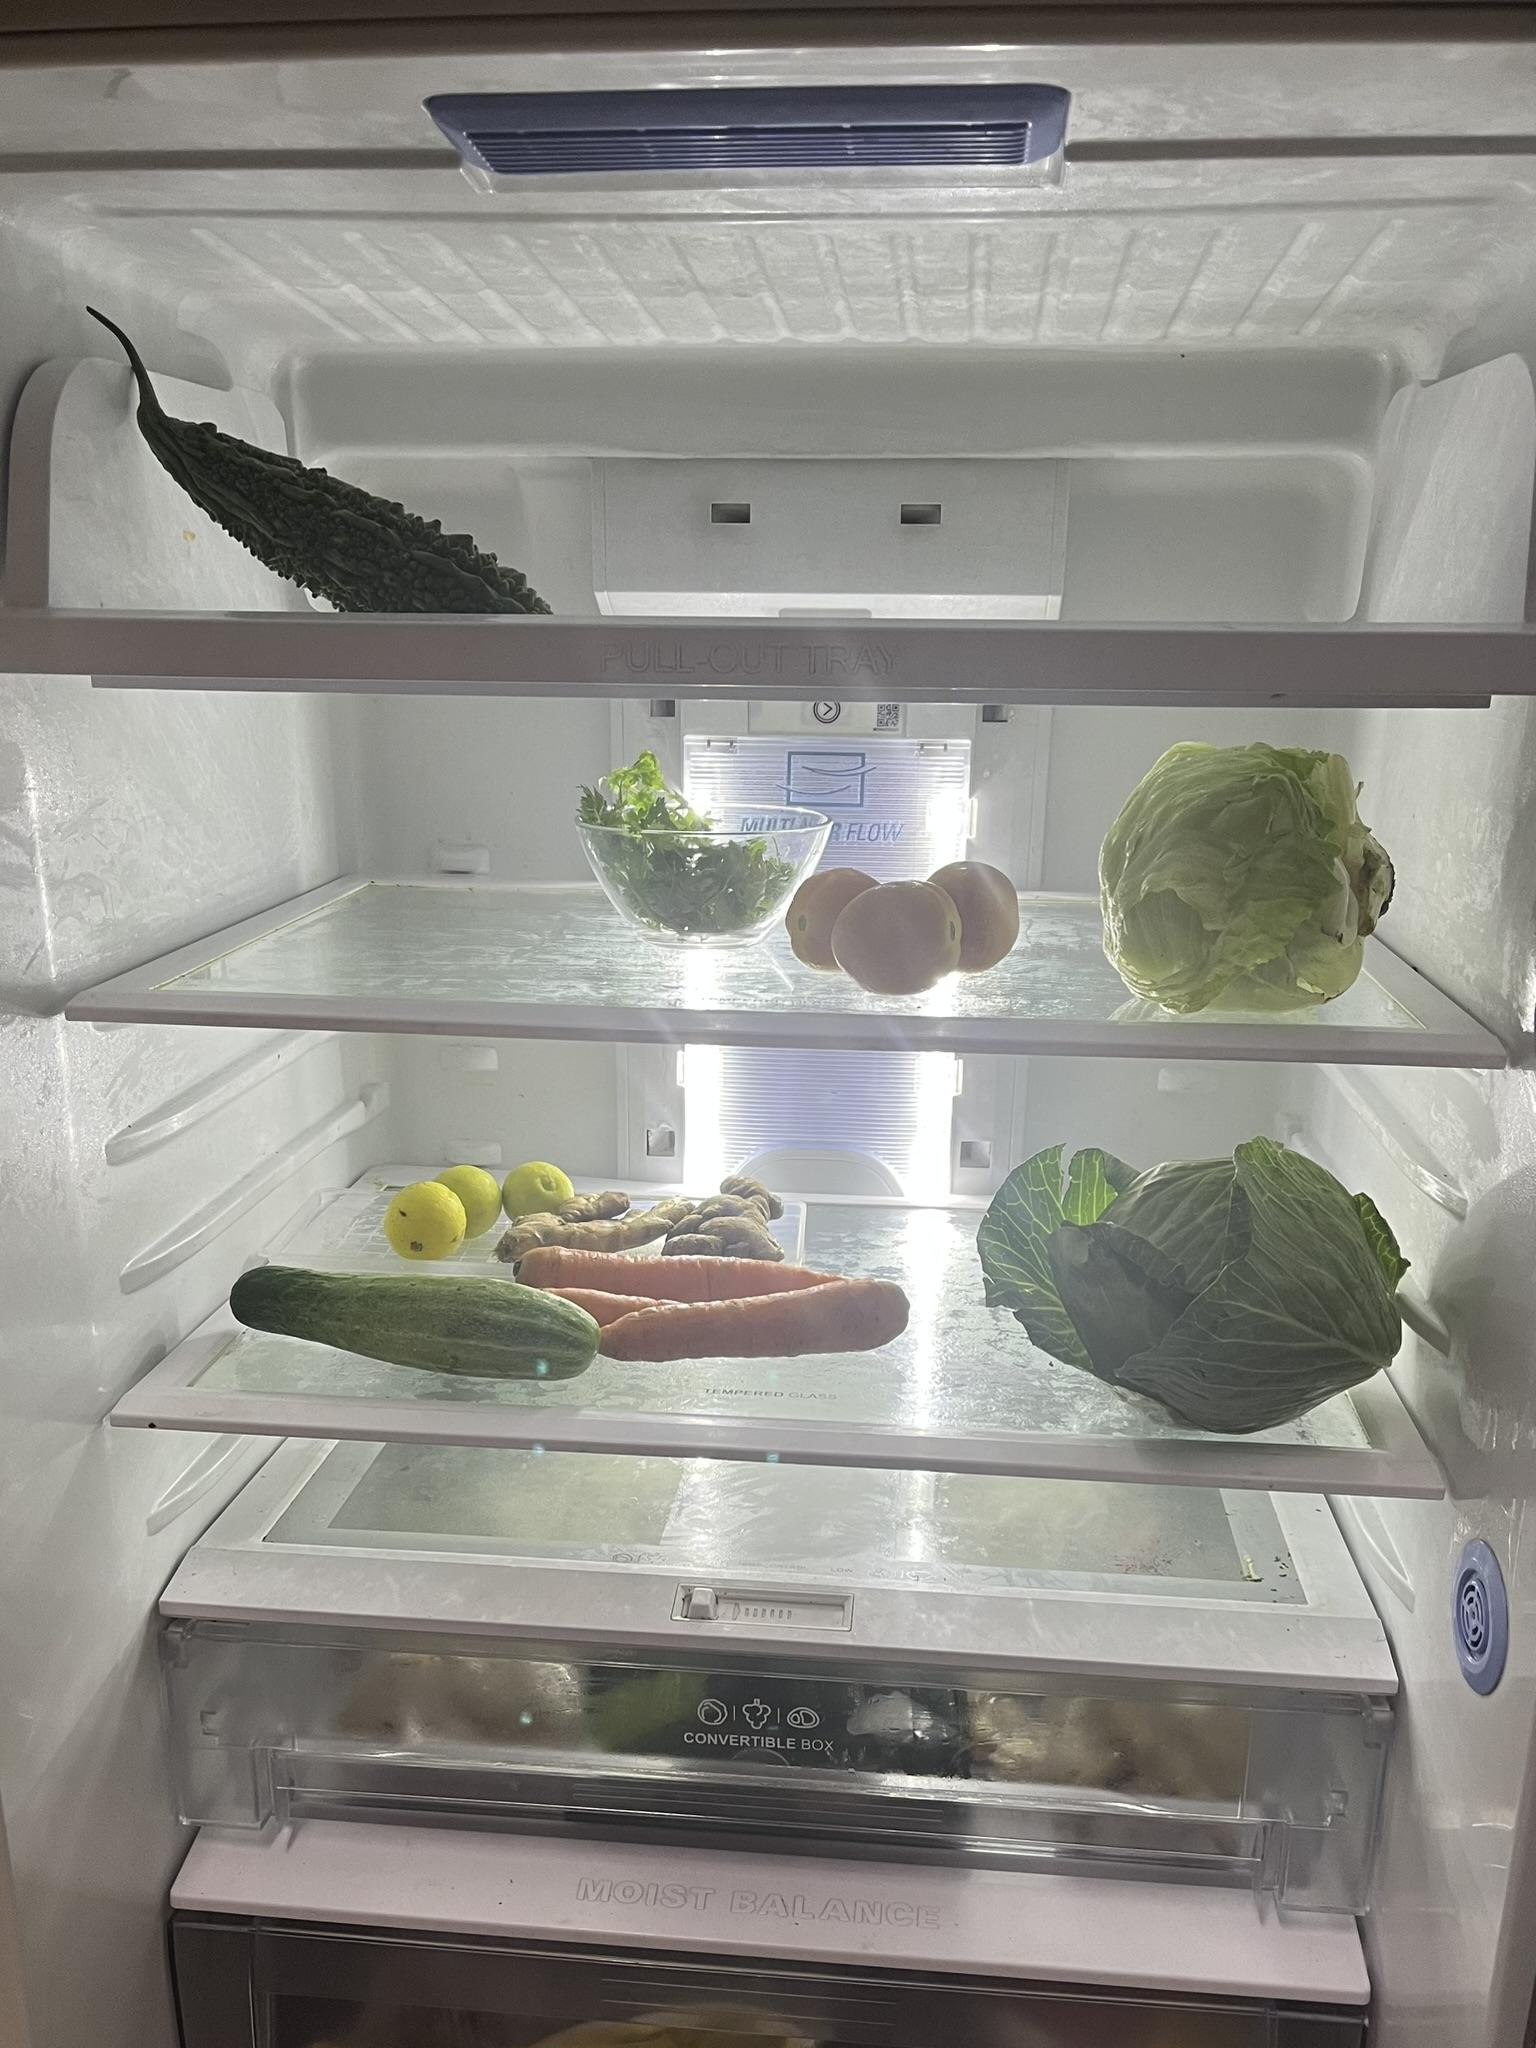bitter gaurd: (106, 313, 573, 619)
cabbage: (987, 1134, 1467, 1427)
carrots: (520, 1250, 913, 1356)
coriander: (576, 766, 784, 927)
cucumber: (210, 1253, 597, 1377)
ginger: (534, 1187, 784, 1256)
lemon: (376, 1153, 584, 1247)
lettuce: (1087, 737, 1400, 1016)
tomato: (784, 856, 1033, 1009)
